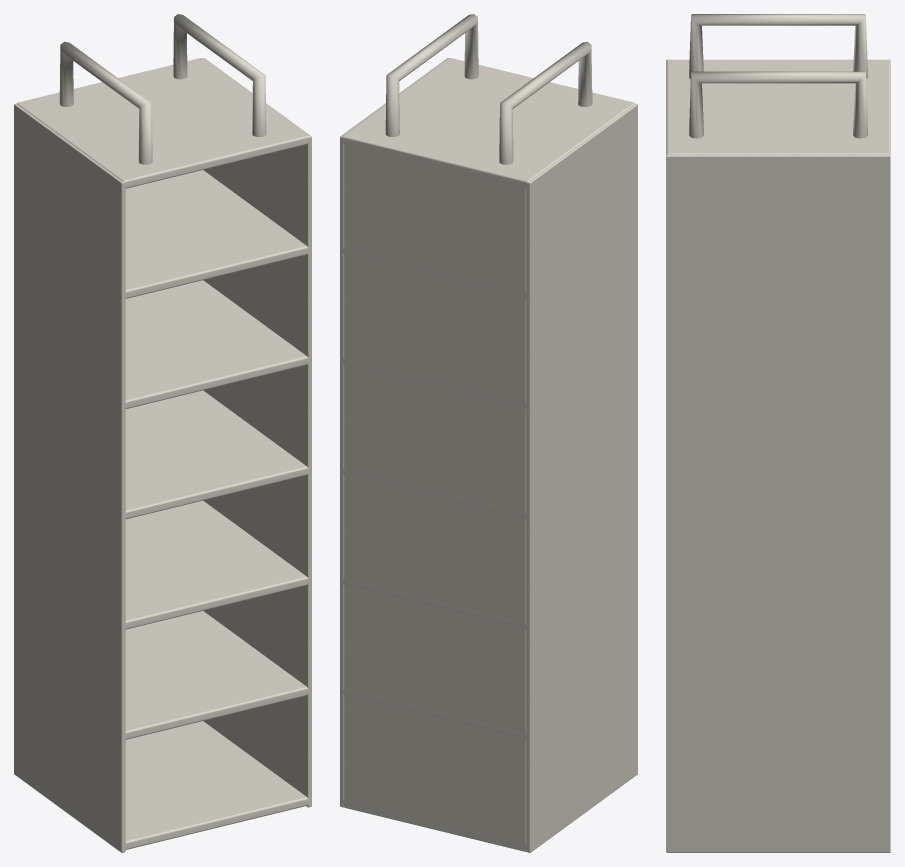
3 renders of one model, left to right at view 1: azimuth 30°, elevation 25°; view 2: azimuth 150°, elevation 25°; view 3: azimuth 270°, elevation 25°, orthographic. The views are drawn at different scales.
Visible parts, largest first — view 1: Soft closet shelf side, Soft closet shelf side.001, Stiffened fabric shelf.006, Stiffened fabric shelf, Stiffened fabric shelf.001, Stiffened fabric shelf.002, Stiffened fabric shelf.005, Stiffened fabric shelf.003, Stiffened fabric shelf.004, Top closet attachment loop.001, Top closet attachment loop; view 2: Fabric closet back, Soft closet shelf side, Stiffened fabric shelf.006, Soft closet shelf side.001, Top closet attachment loop.001, Top closet attachment loop, Stiffened fabric shelf.002, Stiffened fabric shelf.001, Stiffened fabric shelf, Stiffened fabric shelf.003, Stiffened fabric shelf.004, Stiffened fabric shelf.005; view 3: Soft closet shelf side.001, Stiffened fabric shelf.006, Top closet attachment loop.001, Top closet attachment loop.
Boxes of the visible parts, <box> form: Soft closet shelf side: <box>14,103,125,852</box>; Soft closet shelf side.001: <box>203,58,311,807</box>; Stiffened fabric shelf.006: <box>16,58,309,188</box>; Stiffened fabric shelf: <box>125,721,308,849</box>; Stiffened fabric shelf.001: <box>125,611,308,739</box>; Stiffened fabric shelf.002: <box>125,500,308,629</box>; Stiffened fabric shelf.005: <box>125,170,308,298</box>; Stiffened fabric shelf.003: <box>125,390,308,519</box>; Stiffened fabric shelf.004: <box>125,280,308,408</box>; Top closet attachment loop.001: <box>173,14,266,136</box>; Top closet attachment loop: <box>59,41,152,164</box>; Fabric closet back: <box>344,139,526,851</box>; Soft closet shelf side: <box>526,103,637,852</box>; Stiffened fabric shelf.006: <box>342,58,635,188</box>; Soft closet shelf side.001: <box>340,58,448,807</box>; Top closet attachment loop.001: <box>385,14,478,136</box>; Top closet attachment loop: <box>499,41,592,164</box>; Stiffened fabric shelf.002: <box>343,578,526,629</box>; Stiffened fabric shelf.001: <box>343,688,526,739</box>; Stiffened fabric shelf: <box>343,798,526,849</box>; Stiffened fabric shelf.003: <box>343,468,526,518</box>; Stiffened fabric shelf.004: <box>343,357,526,408</box>; Stiffened fabric shelf.005: <box>343,247,526,298</box>; Soft closet shelf side.001: <box>666,155,890,852</box>; Stiffened fabric shelf.006: <box>666,60,890,154</box>; Top closet attachment loop.001: <box>689,71,867,138</box>; Top closet attachment loop: <box>689,14,867,79</box>.
Size of the model in its own units: 0.299 by 1.1 by 0.293.
Materials: 1 (1 with a texture image).
